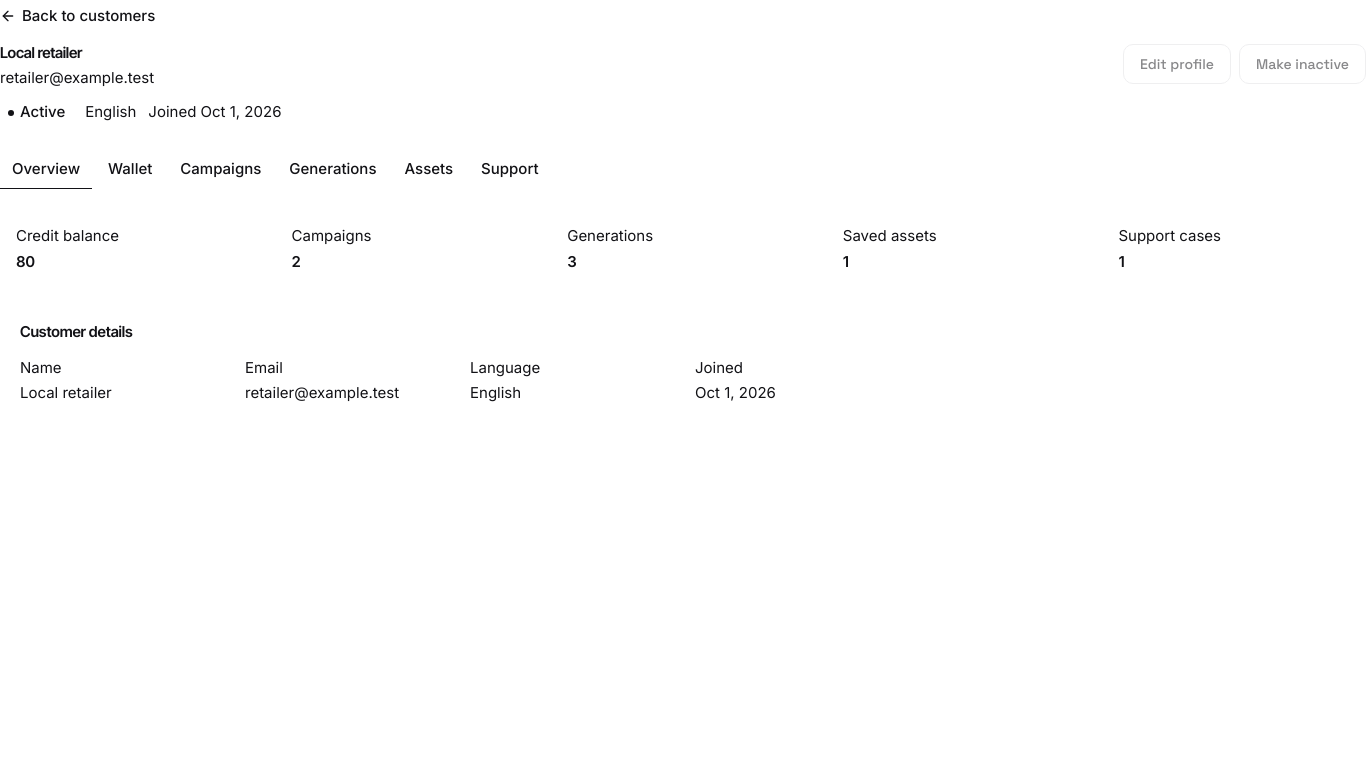
customer workspace › enables wallet adjustment independently of profile editing
Expected: the button "Edit profile" is disabled, 1123,44 -> 1231,84
Click the tab "Wallet" at (130, 170), box 96,150 -> 164,190
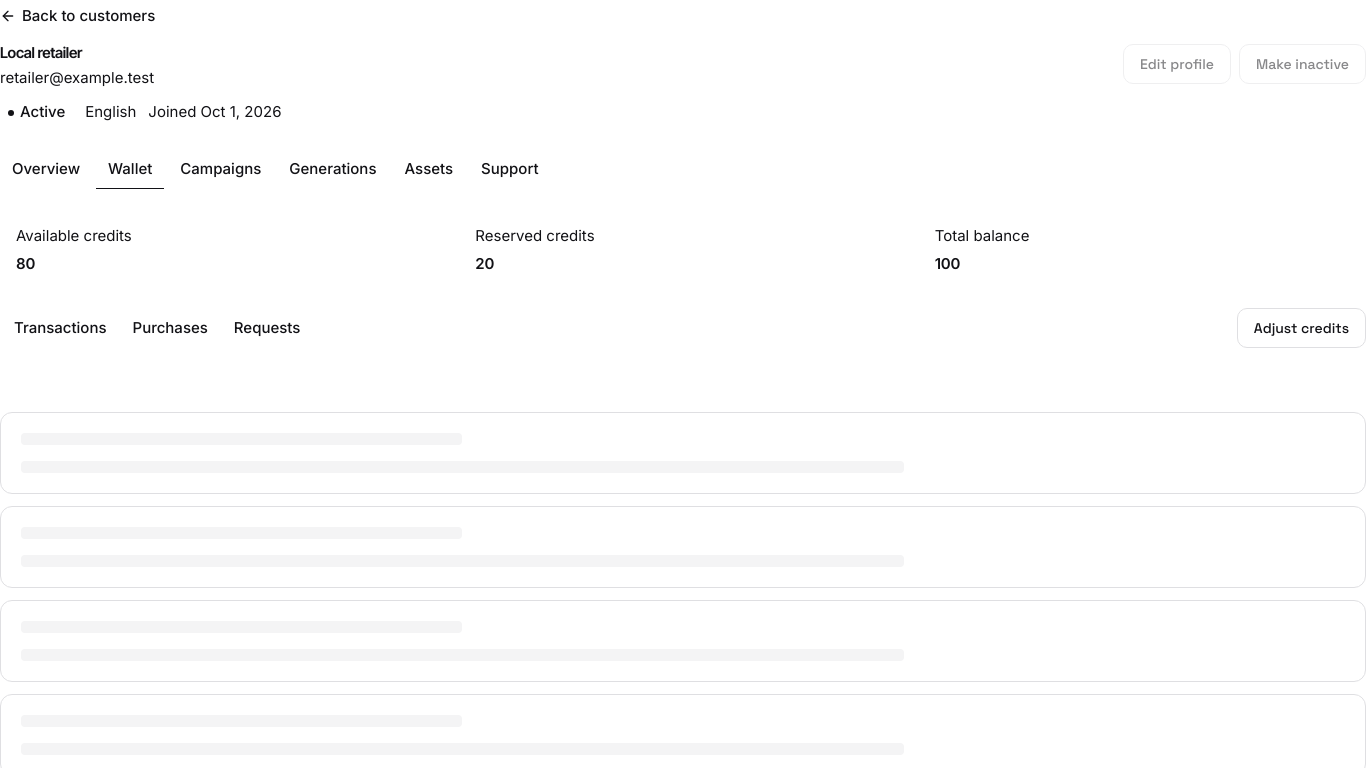
Now the button "Adjust credits" is enabled
Click the button "Adjust credits" at (1301, 328), box 1237,308 -> 1365,348
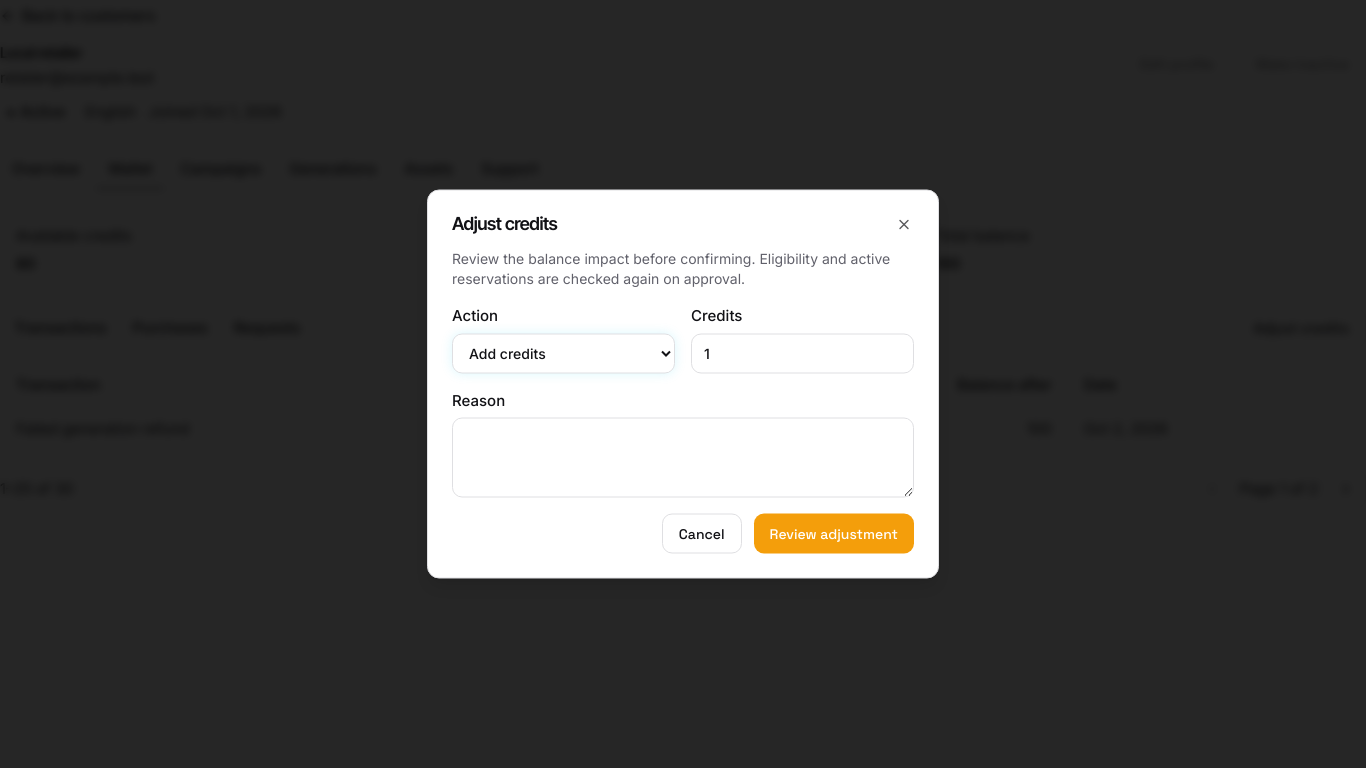
Expected: the number field labelled "Credits" holds "1", 691,333 -> 914,373
Now the dialog is shown, box 427,190 -> 939,578
